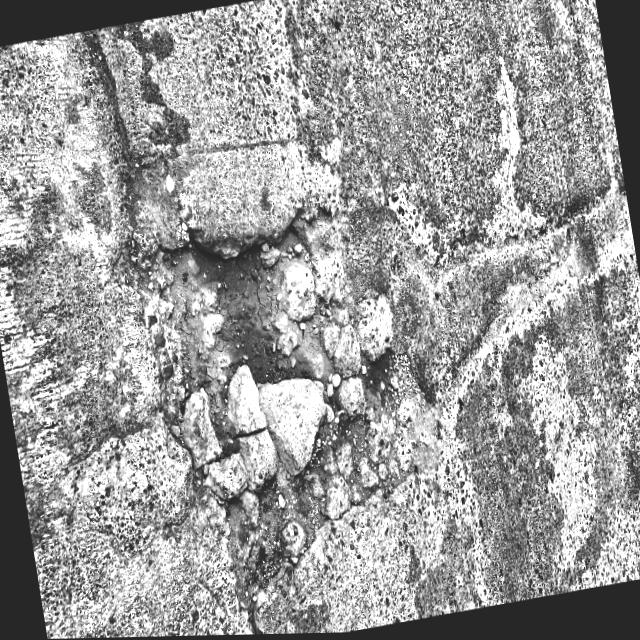pothole: (157, 229, 364, 582)
